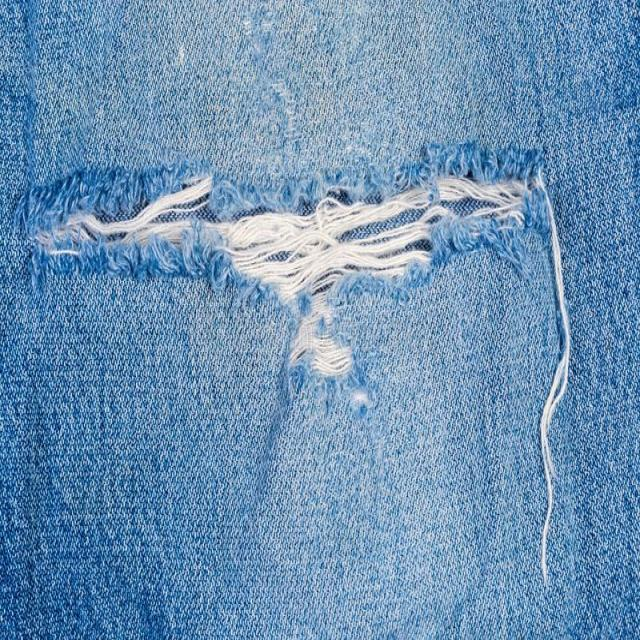Hole: (22, 144, 552, 408)
